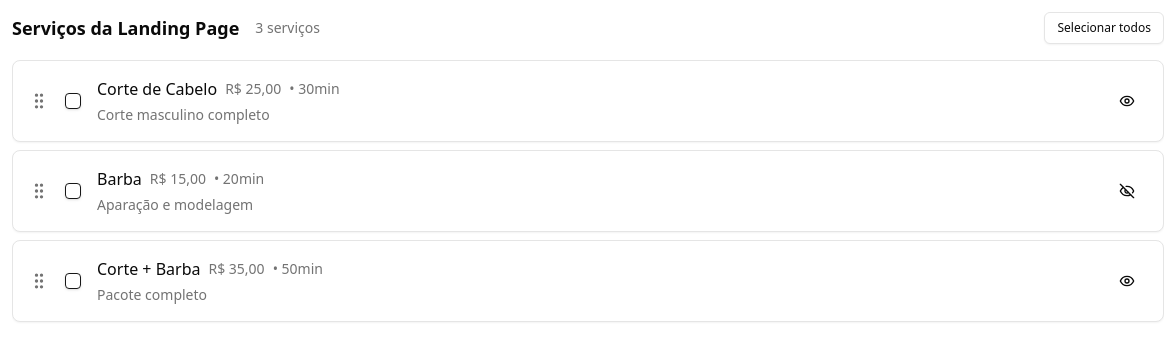
Test: ServiceManager › Controles de seleção › should select all services when select all is clicked
Click the button "Selecionar todos" at (1104, 28), box [1044,12,1164,44]
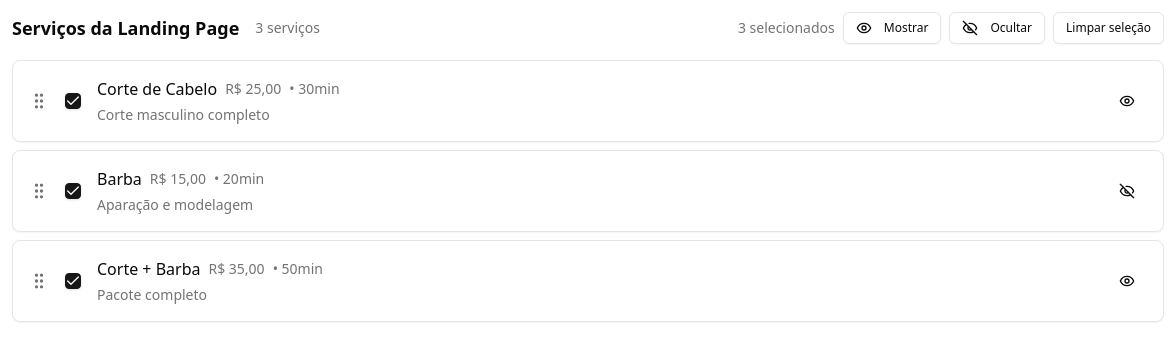
Expected: the checkbox next to "Corte de Cabelo" is checked, [65,93,81,109]
Expected: the checkbox next to "Aparação e modelagem" is checked, [65,183,81,199]
Expected: the checkbox next to "Corte + Barba" is checked, [65,273,81,289]
